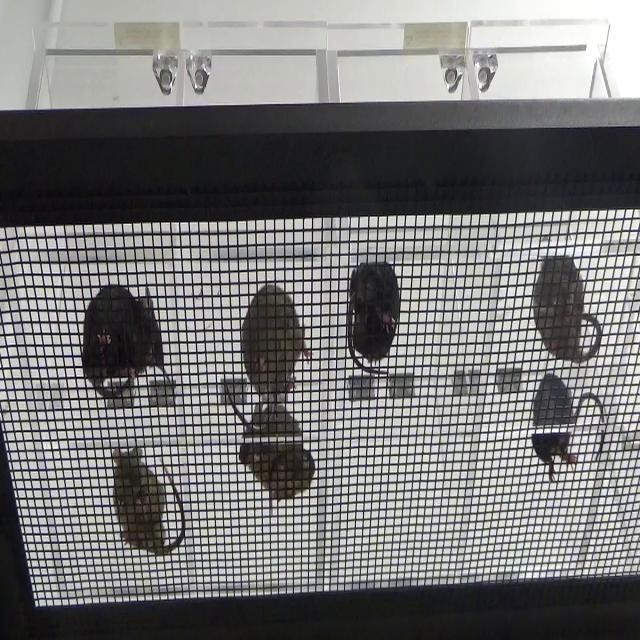lick tail: (521, 246, 610, 378)
